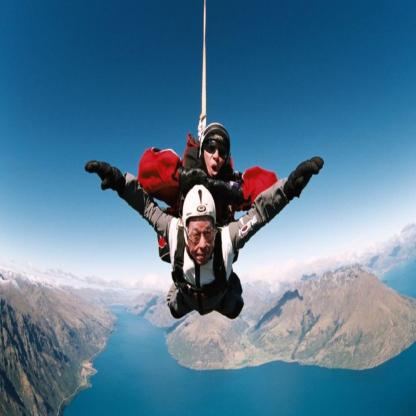Helmet: (182, 182, 215, 247), (198, 122, 234, 178)
